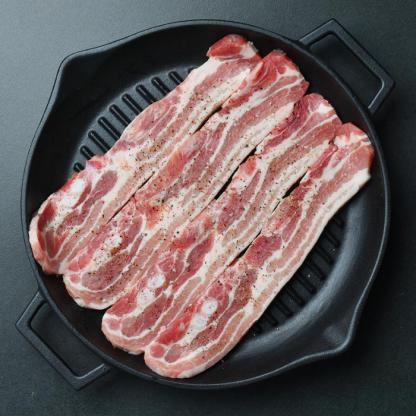pork: (71, 44, 342, 358)
